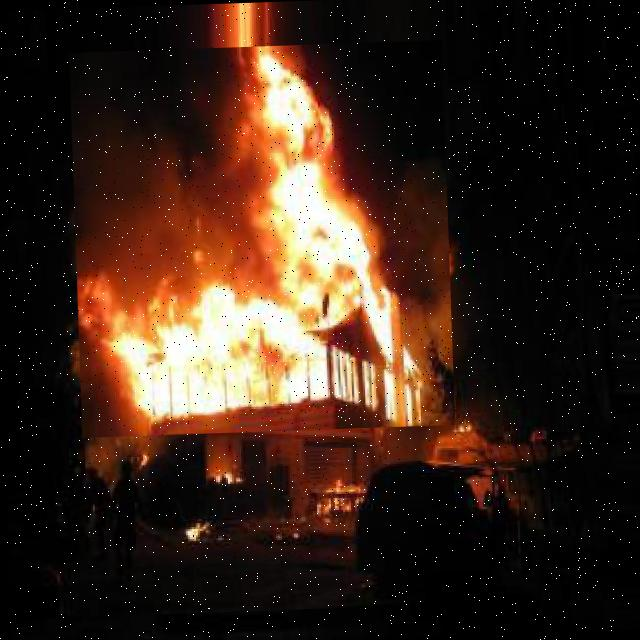fire: (68, 40, 454, 438)
